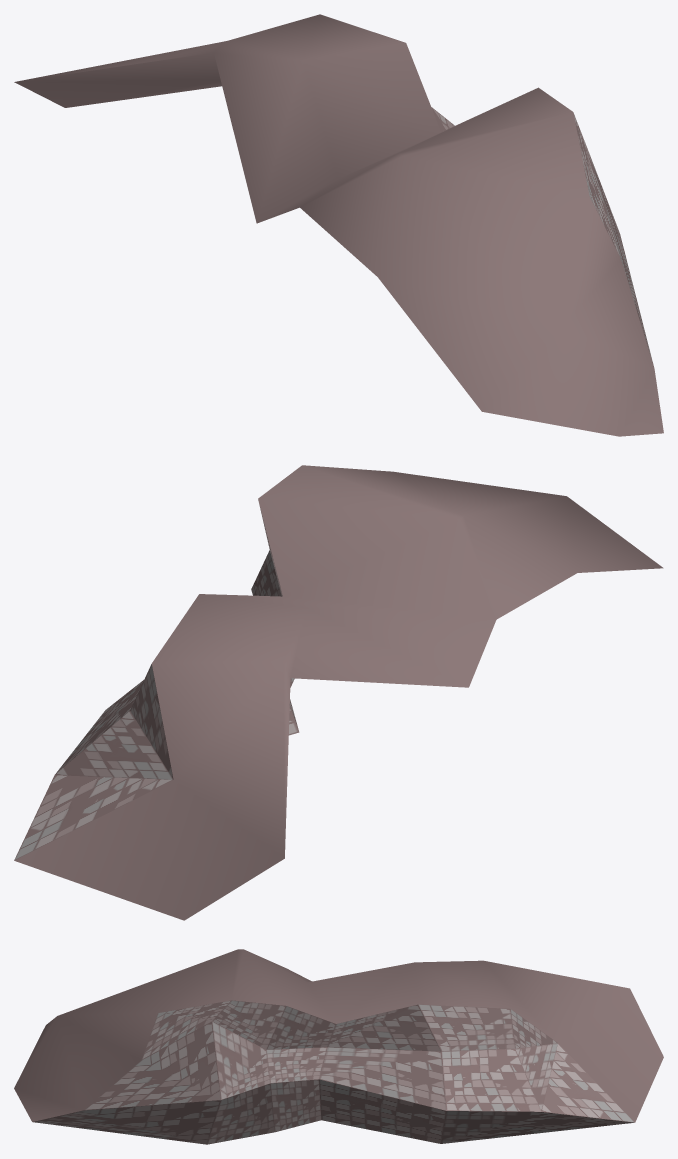
Rendered from ShoreRock.glb.
3 renders of one model, top to bottom at view 1: azimuth 30°, elevation 25°; view 2: azimuth 150°, elevation 25°; view 3: azimuth 270°, elevation 25°, orthographic. The views are drawn at different scales.
Visible parts, largest first — view 1: Cube_267; view 2: Cube_267; view 3: Cube_267.
Part boxes in pixels (<box>): Cube_267: <box>14,14,663,436</box>; Cube_267: <box>14,465,663,920</box>; Cube_267: <box>14,949,663,1144</box>.
Size of the model in its own units: 4.37 by 2.73 by 11.43.
Materials: 2 (2 with a texture image).
